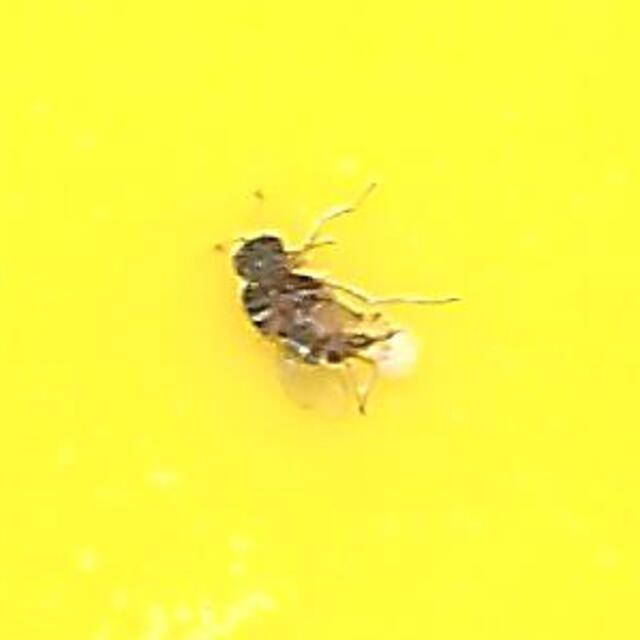Brachycera: (214, 226, 426, 414)
